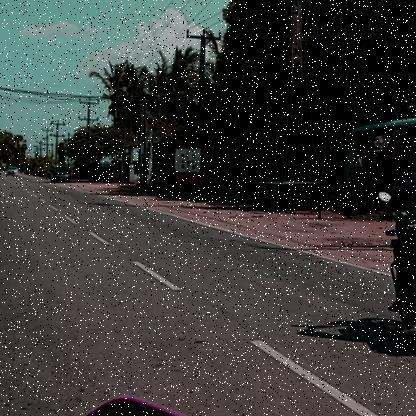motorcycle: (371, 186, 416, 361)
